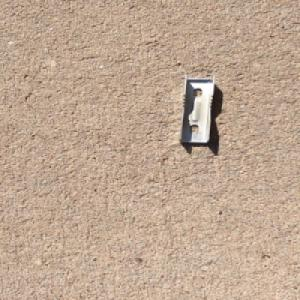ClampPart: (176, 70, 218, 143)
